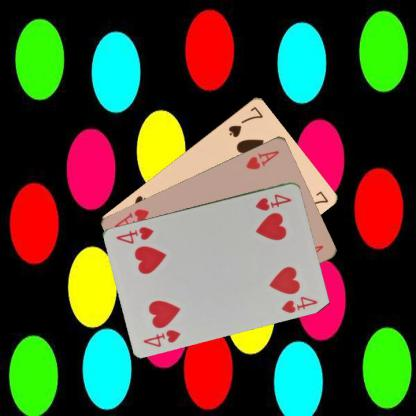4h: (141, 326, 182, 348), (252, 191, 293, 212)
7s: (226, 104, 265, 139)
Ah: (243, 147, 280, 171)
